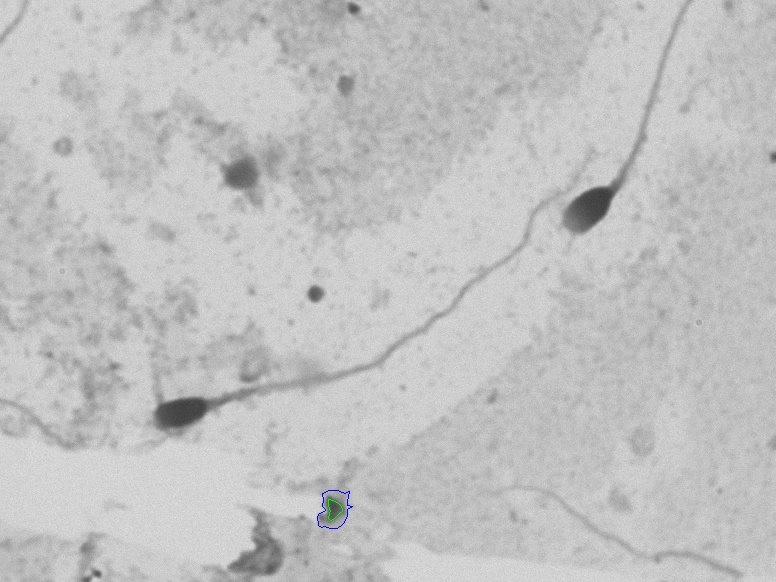Abnormal: (101, 231, 536, 443)
Normal: (557, 8, 700, 261)
